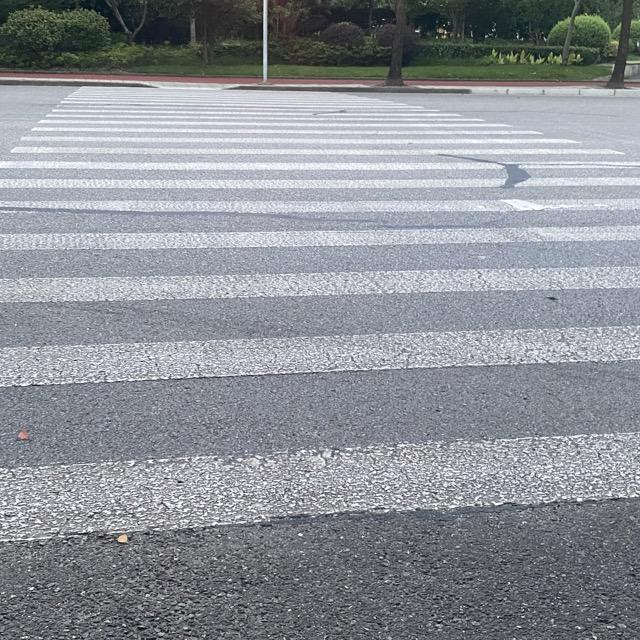curb: (0, 70, 259, 82), (224, 86, 471, 92), (0, 77, 156, 86), (406, 80, 603, 87), (271, 78, 383, 84)
